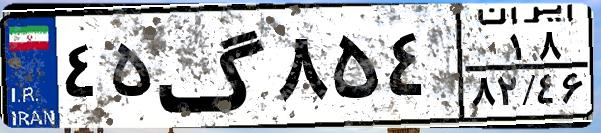1: (508, 27, 537, 80)
2: (495, 70, 520, 125)
4: (385, 28, 445, 110), (57, 26, 110, 100), (535, 70, 560, 125)
5: (330, 28, 385, 110), (110, 28, 156, 98)
6: (560, 70, 590, 125)
8: (270, 28, 330, 110), (537, 27, 568, 80), (470, 70, 495, 125)
گ: (156, 12, 270, 120)
